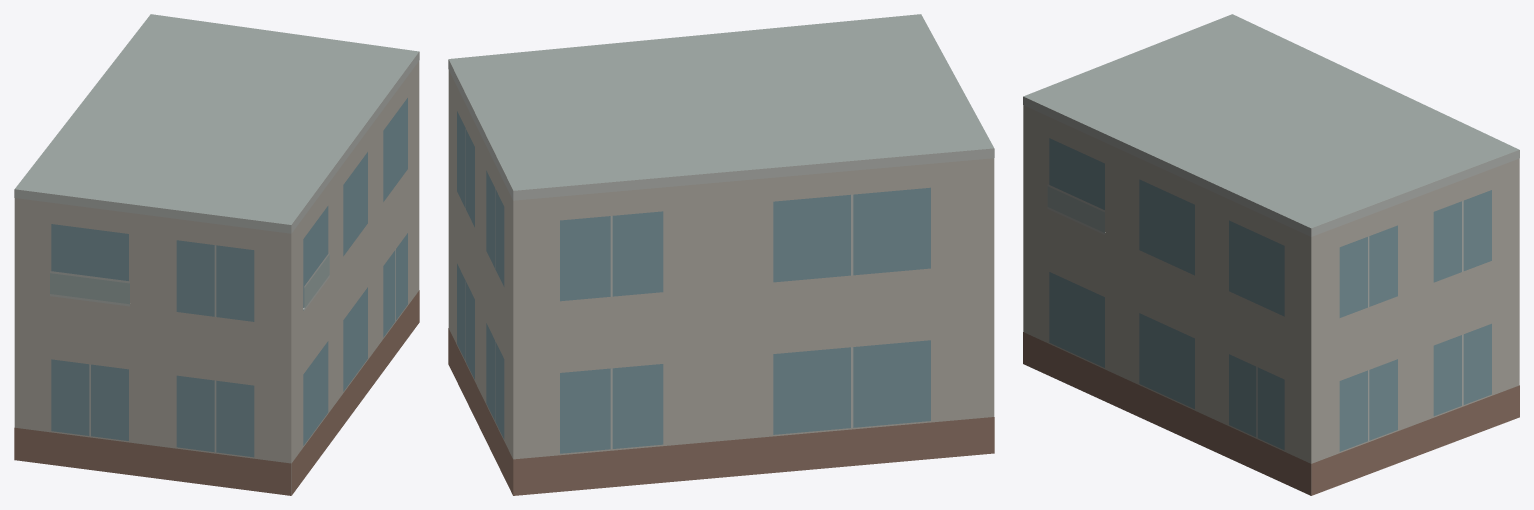
File: survey-upis-32840761.glb
3 views of the same model, side by side, from view 1: azimuth 30°, elevation 25°; view 2: azimuth 150°, elevation 25°; view 3: azimuth 270°, elevation 25° (orthographic). The views are drawn at different scales.
Visible parts, largest first — view 1: survey-upis-32840761.tmp; view 2: survey-upis-32840761.tmp; view 3: survey-upis-32840761.tmp.
Part boxes in pixels (bbox=[...]): survey-upis-32840761.tmp: bbox=[14, 14, 419, 495]; survey-upis-32840761.tmp: bbox=[448, 14, 994, 495]; survey-upis-32840761.tmp: bbox=[1023, 14, 1519, 495].
Size of the model in its own units: 13.07 by 7.6 by 12.8.
